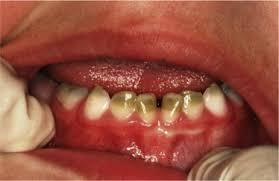Discoloration: (109, 86, 139, 122), (201, 84, 231, 115), (133, 86, 158, 123), (160, 90, 184, 126), (180, 89, 205, 119)
